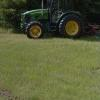Tractor: (15, 2, 86, 36)
